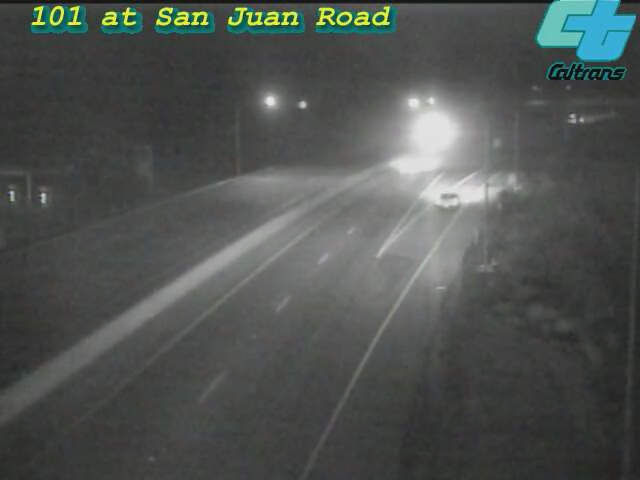vehicle: (374, 124, 454, 204), (409, 162, 489, 242), (407, 104, 457, 154), (551, 93, 601, 143)
